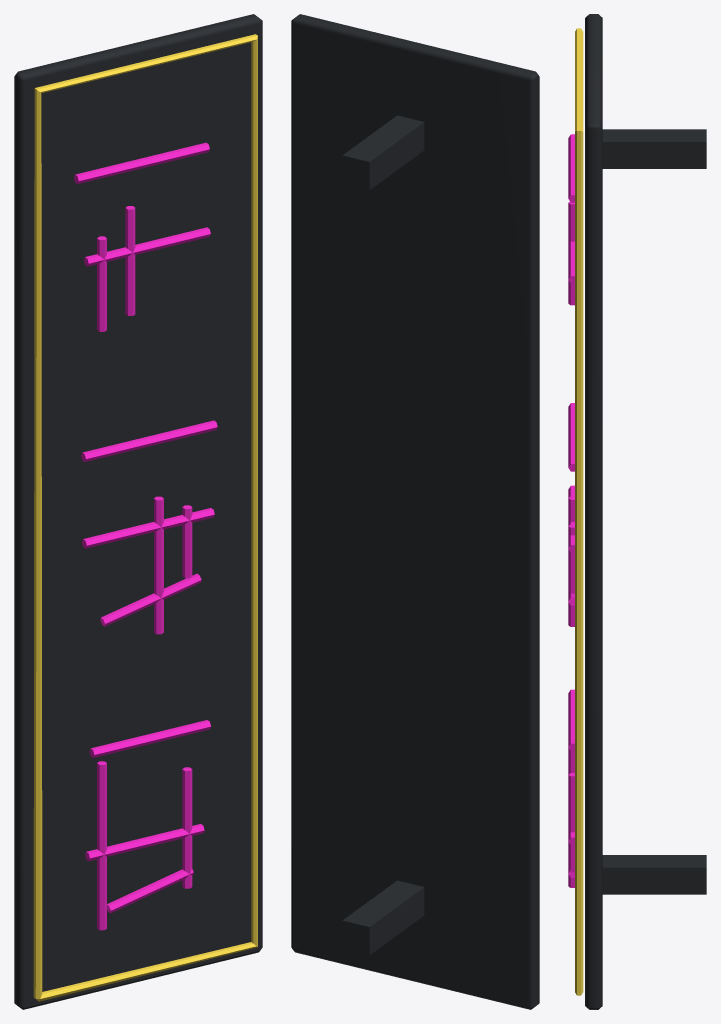
File: St_NeonColumn_B.fbx
3 renders of one model, left to right at view 1: azimuth 30°, elevation 25°; view 2: azimuth 150°, elevation 25°; view 3: azimuth 270°, elevation 25°, orthographic. The views are drawn at different scales.
Parts seen in each view (by area): view 1: St_NeonColumn_B_LOD0; view 2: St_NeonColumn_B_LOD0; view 3: St_NeonColumn_B_LOD0.
Boxes of the visible parts, <box> form: St_NeonColumn_B_LOD0: <box>14,14,262,1009</box>; St_NeonColumn_B_LOD0: <box>291,14,539,1009</box>; St_NeonColumn_B_LOD0: <box>568,14,706,1009</box>.
Size of what is drawn, in the model's own units: 0.9 by 3.3 by 0.466.
